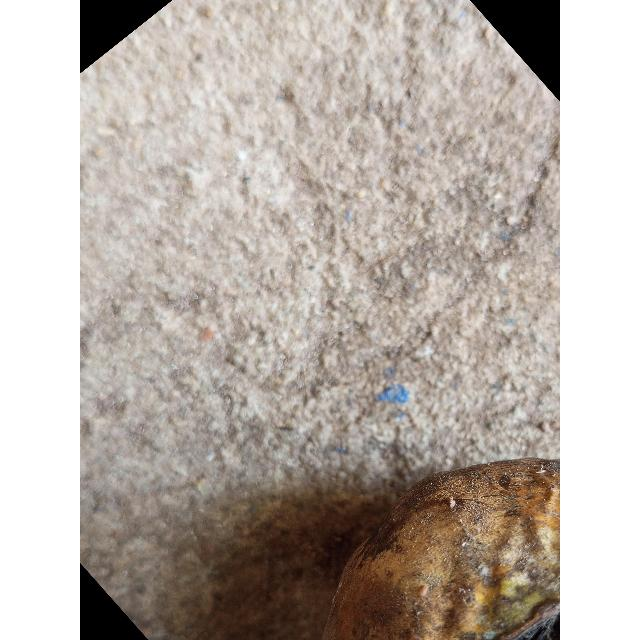damaged: (321, 459, 560, 640)
